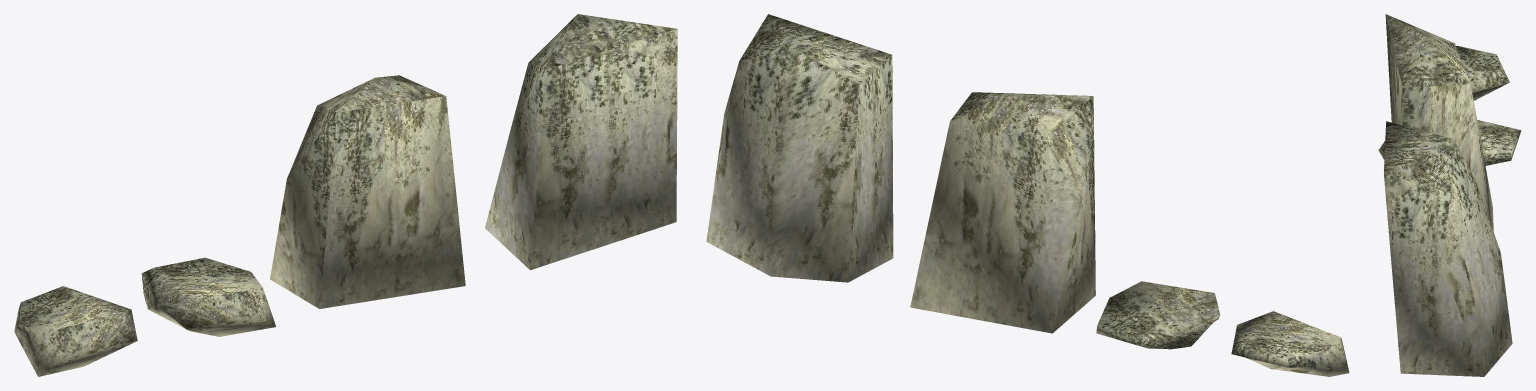
The model's file is CliffRocks-Mossy.glb.
3 renders of one model, left to right at view 1: azimuth 30°, elevation 25°; view 2: azimuth 150°, elevation 25°; view 3: azimuth 270°, elevation 25°, orthographic. The views are drawn at different scales.
Parts seen in each view (by area): view 1: Rock-Cliff-Face-2, Rock-Cliff-Face-1, Rock-Cliff-Top-2, Rock-Cliff-Top-1; view 2: Rock-Cliff-Face-2, Rock-Cliff-Face-1, Rock-Cliff-Top-2, Rock-Cliff-Top-1; view 3: Rock-Cliff-Face-2, Rock-Cliff-Face-1, Rock-Cliff-Top-1, Rock-Cliff-Top-2.
Part boxes in pixels (x1=…): Rock-Cliff-Face-2: x1=485, y1=14, x2=677, y2=270; Rock-Cliff-Face-1: x1=270, y1=75, x2=465, y2=308; Rock-Cliff-Top-2: x1=141, y1=257, x2=275, y2=336; Rock-Cliff-Top-1: x1=14, y1=286, x2=137, y2=376; Rock-Cliff-Face-2: x1=706, y1=14, x2=893, y2=282; Rock-Cliff-Face-1: x1=910, y1=92, x2=1095, y2=333; Rock-Cliff-Top-2: x1=1096, y1=281, x2=1220, y2=349; Rock-Cliff-Top-1: x1=1231, y1=311, x2=1349, y2=376; Rock-Cliff-Face-2: x1=1383, y1=121, x2=1512, y2=376; Rock-Cliff-Face-1: x1=1385, y1=14, x2=1493, y2=232; Rock-Cliff-Top-1: x1=1456, y1=46, x2=1509, y2=100; Rock-Cliff-Top-2: x1=1378, y1=120, x2=1521, y2=165.
Bounding box in the file's own units: 99.12 × 32.4 × 19.73.
1 material, 1 textured.
